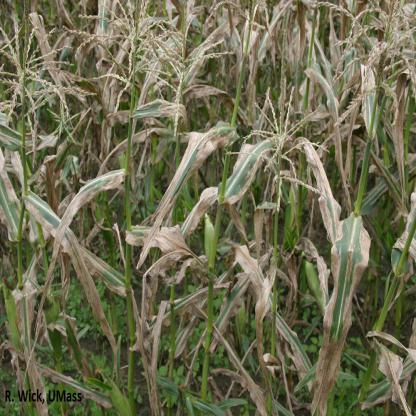Corn leaf blight: (29, 172, 125, 360), (308, 212, 376, 412), (143, 124, 233, 260), (303, 66, 357, 215), (295, 134, 344, 282), (254, 257, 276, 415), (12, 283, 45, 388), (131, 92, 197, 127)
